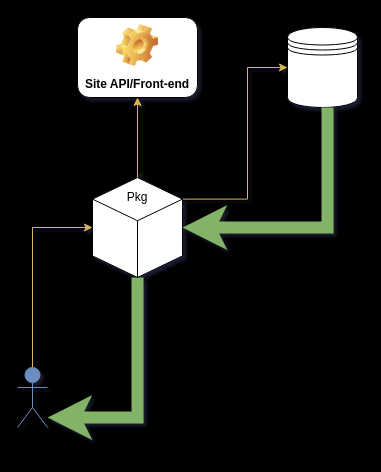
Image size: 381x472. Some labels were removed from this diagram. The box of each missing label's shape, as (x1, y1, x2, y2) in pixels:
Package Data Store: (286, 26, 358, 108)
User: (16, 366, 48, 428)
